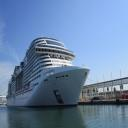cruises: (6, 38, 92, 112)
